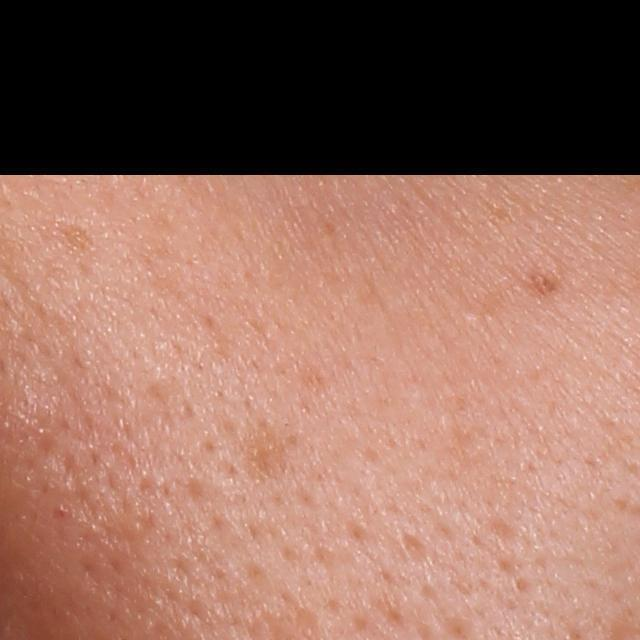melasma: (49, 216, 97, 257), (512, 262, 560, 297)
